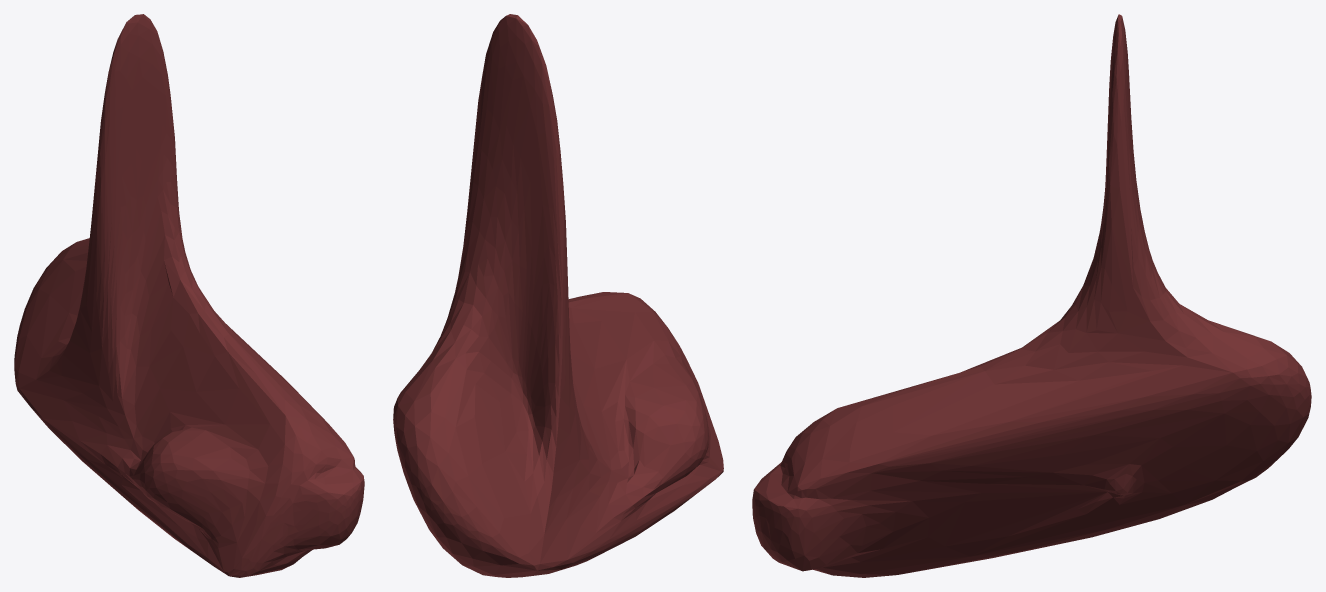
3 views of the same model, side by side, from view 1: azimuth 30°, elevation 25°; view 2: azimuth 150°, elevation 25°; view 3: azimuth 270°, elevation 25° (orthographic). The views are drawn at different scales.
Visible parts, largest first — view 1: 915_Cube.3699; view 2: 915_Cube.3699; view 3: 915_Cube.3699.
Boxes of the visible parts, <box> form: 915_Cube.3699: <box>14,14,364,577</box>; 915_Cube.3699: <box>393,14,723,577</box>; 915_Cube.3699: <box>752,14,1311,577</box>.
Size of the model in its own units: 4.68 by 13.39 by 12.19.
